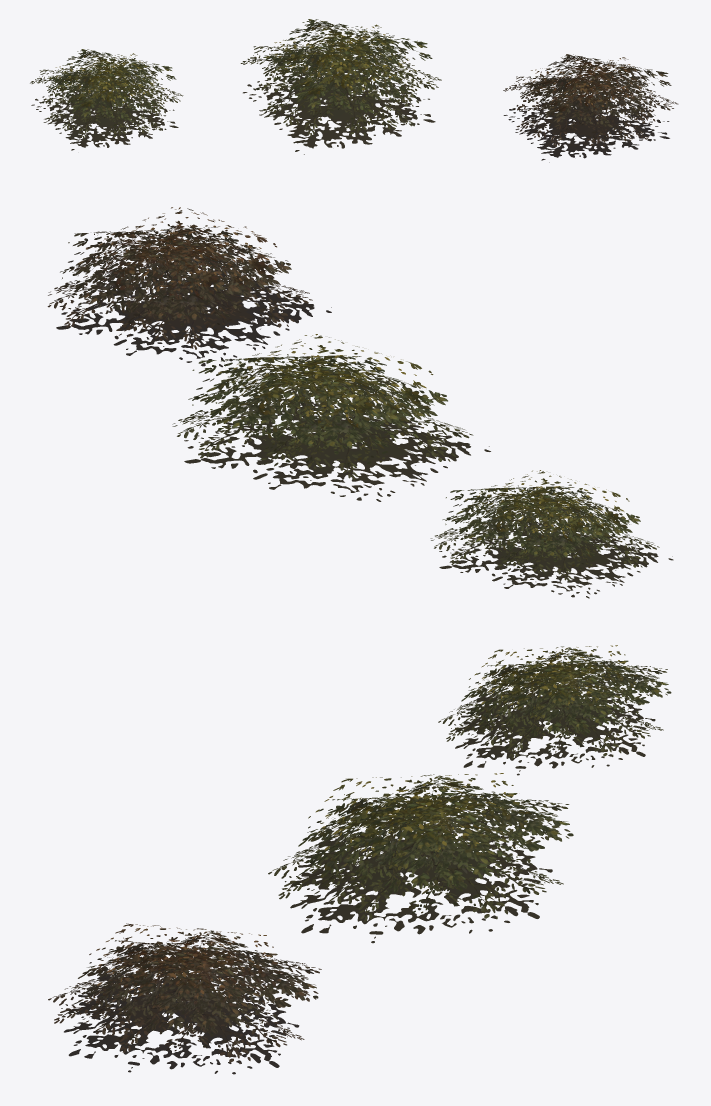
The model's file is plants_bushes02.fbx.
3 views of the same model, one above another, from view 1: azimuth 30°, elevation 25°; view 2: azimuth 150°, elevation 25°; view 3: azimuth 270°, elevation 25° (orthographic). The views are drawn at different scales.
Parts seen in each view (by area): view 1: plants_bushes02-0; view 2: plants_bushes02-0; view 3: plants_bushes02-0.
Boxes of the visible parts, left/top/right/bottom form: plants_bushes02-0: left=30, top=19, right=678, bottom=162; plants_bushes02-0: left=47, top=207, right=673, bottom=598; plants_bushes02-0: left=48, top=645, right=671, bottom=1074.
Size of the model in its own units: 10.66 by 1.35 by 7.62.
